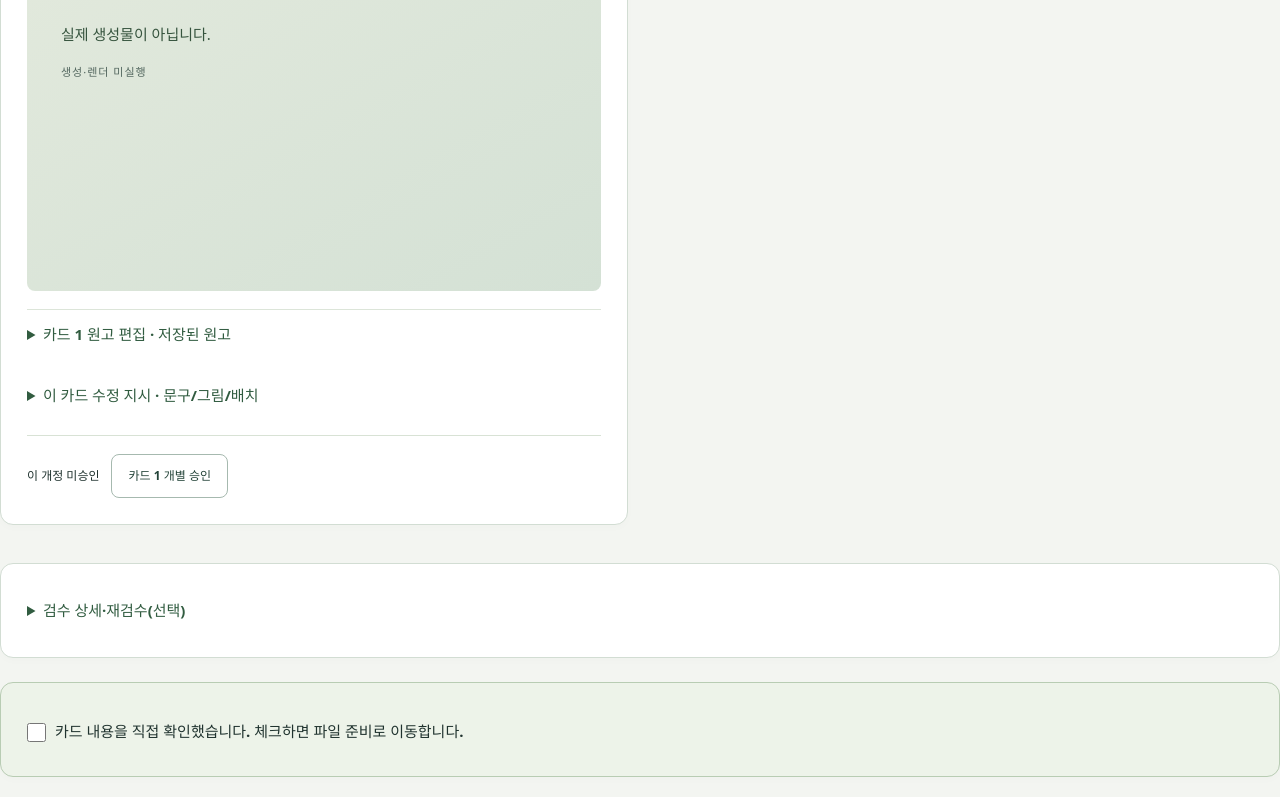
검수는 경고를 짧게 요약하고 같은 사실 기록은 상세에서 읽는다
The image size is (1280, 797).
(page scrolled)
Check: the text "수치 근거 부족" is not shown
Click the heading "검수 상세·재검수(선택)" at [114, 610], box [43,600,185,620]
(page scrolled)
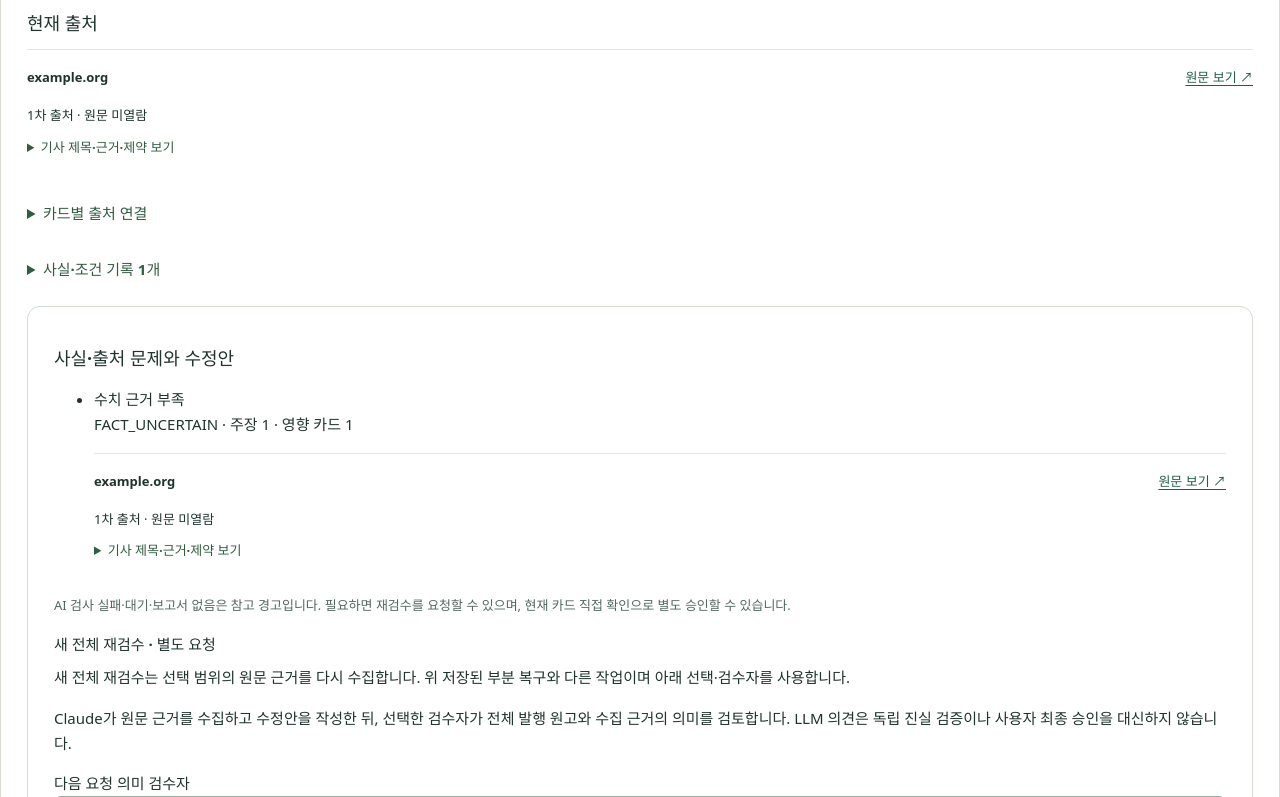
Check: the text "수치 근거 부족" is shown, box [94,389,185,409]
